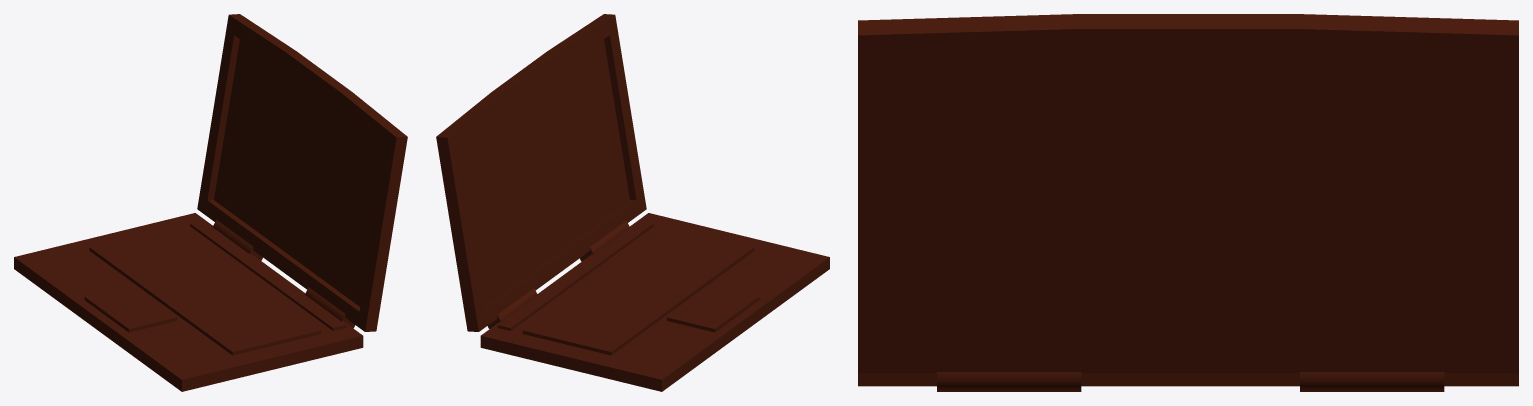
Rendered from laptop.fbx.
The picture shows the model from 3 angles, left to right: view 1: azimuth 30°, elevation 25°; view 2: azimuth 150°, elevation 25°; view 3: azimuth 270°, elevation 25°; orthographic projection. The views are drawn at different scales.
Parts seen in each view (by area): view 1: laptop; view 2: laptop; view 3: laptop.
Part boxes in pixels (box(x1,y1,x2,y2)): laptop: box(14, 14, 407, 391); laptop: box(436, 14, 829, 391); laptop: box(858, 14, 1518, 391).
Size of the model in its own units: 510 by 443 by 655.
